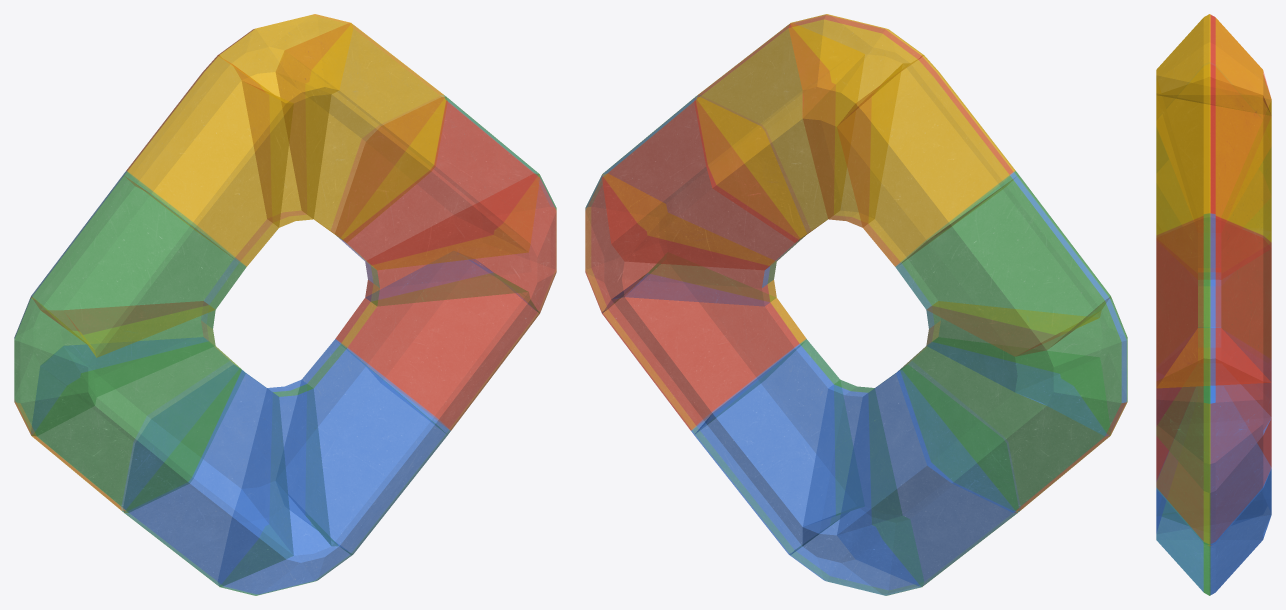
File: crystal.glb
3 views of the same model, side by side, from view 1: azimuth 30°, elevation 25°; view 2: azimuth 150°, elevation 25°; view 3: azimuth 270°, elevation 25° (orthographic). The views are drawn at different scales.
Parts seen in each view (by area): view 1: play-square; view 2: play-square; view 3: play-square.
Boxes of the visible parts, x1,y1,x2,y2 form: play-square: [14, 14, 556, 595]; play-square: [585, 14, 1127, 595]; play-square: [1156, 14, 1271, 595].
Bounding box in the file's own units: 2.09 × 2.09 × 0.3958.
Materials: 1 (1 with a texture image).
